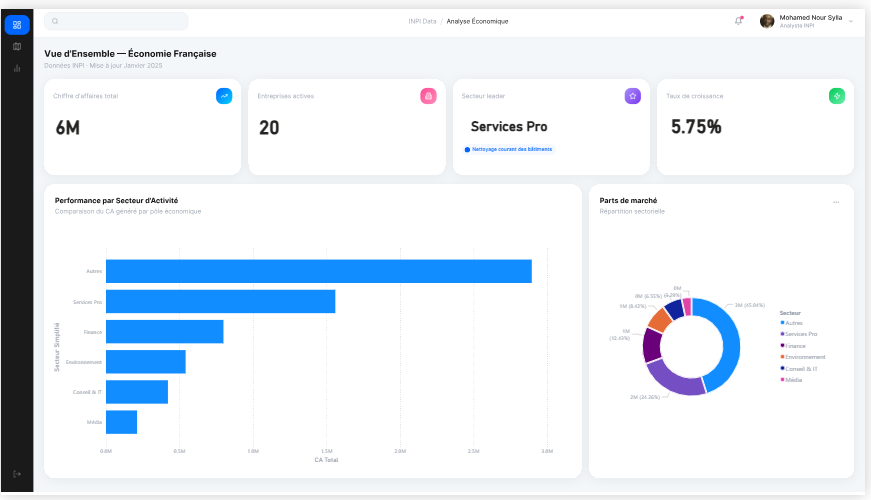

This screenshot's page, from the dashboard's own definition file:
{"tool":"powerbi","page":{"name":"Vue d'ensemble","canvas":[1920,1080],"ordinal":0},"visuals":[{"type":"card","fields":{"Values":["_Mesures.CA Total"]},"box":[110,225,75,63.3],"z":0},{"type":"card","fields":{"Values":["_Mesures.Nb Entreprises"]},"box":[566.7,226.7,58.3,61.7],"z":1000},{"type":"shape","box":[1023.4,299.7,211,25],"z":2000},{"type":"card","fields":{"Values":["Min(dim_secteur.Secteur Simplifié)"]},"box":[1021.7,226.7,211.7,61.7],"z":3000},{"type":"card","fields":{"Values":["Min(dim_secteur.libelle_activite)"]},"box":[1021.4,294.7,231,37],"z":4000},{"type":"shape","box":[1031.1,306.1,12.5,12.5],"z":5000},{"type":"card","fields":{"Values":["_Mesures.Croissance CA %"]},"box":[1477.5,227.5,135,60],"z":6000},{"type":"clusteredBarChart","fields":{"Y":["_Mesures.CA Total"],"Category":["dim_secteur.Secteur Simplifié"]},"box":[110,517.5,1122.5,497.5],"z":7000},{"type":"donutChart","fields":{"Category":["dim_secteur.Secteur Simplifié"],"Y":["_Mesures.CA Total"]},"box":[1334,482,514,534],"z":8000},{"type":"actionButton","box":[13.1,116.2,46.2,40],"z":8001},{"type":"actionButton","box":[13.1,68.5,46.2,40],"z":8002}]}

Visuals, with their boxes on the page's 1920x1080 design canvas (x1, y1, x2, y2). These are canvas units, not pixel positions in the 871x500 screenshot, which may show the page scaled, cropped or inside an application window:
card - _Mesures.CA Total: bbox=[110, 225, 185, 288]
card - _Mesures.Nb Entreprises: bbox=[567, 227, 625, 288]
shape: bbox=[1023, 300, 1234, 325]
card - Min(dim_secteur.Secteur Simplifié): bbox=[1022, 227, 1233, 288]
card - Min(dim_secteur.libelle_activite): bbox=[1021, 295, 1252, 332]
shape: bbox=[1031, 306, 1044, 319]
card - _Mesures.Croissance CA %: bbox=[1478, 228, 1612, 288]
clusteredBarChart - _Mesures.CA Total x dim_secteur.Secteur Simplifié: bbox=[110, 518, 1232, 1015]
donutChart - dim_secteur.Secteur Simplifié x _Mesures.CA Total: bbox=[1334, 482, 1848, 1016]
actionButton: bbox=[13, 116, 59, 156]
actionButton: bbox=[13, 68, 59, 108]
